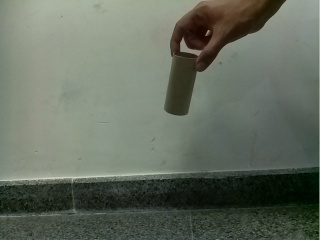rollo papel: (163, 51, 200, 116)
